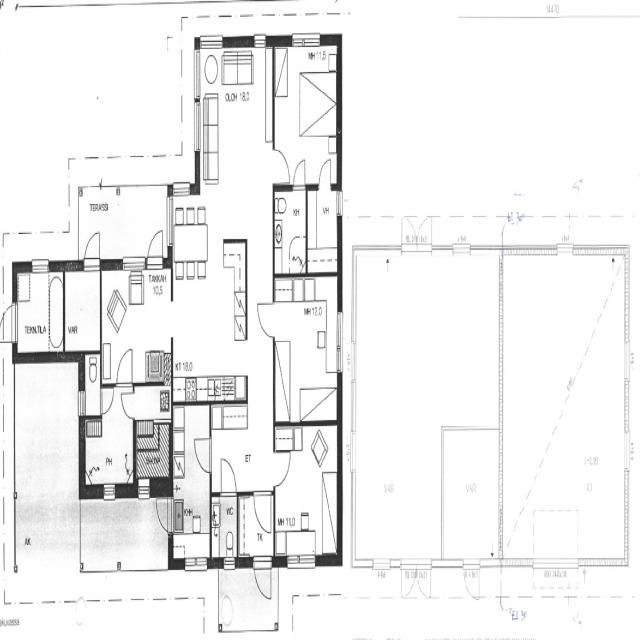door: (254, 557, 271, 605), (254, 492, 271, 534), (464, 558, 479, 603), (84, 226, 99, 270), (0, 304, 17, 342), (402, 212, 417, 255), (417, 212, 432, 255), (416, 558, 431, 601), (153, 500, 173, 532), (273, 453, 291, 488), (148, 226, 162, 270), (402, 558, 416, 601), (194, 439, 212, 472), (274, 148, 291, 182), (117, 349, 132, 386), (259, 304, 275, 338), (221, 460, 236, 496), (120, 393, 136, 420), (319, 159, 331, 191), (294, 159, 305, 191), (100, 389, 113, 414)
